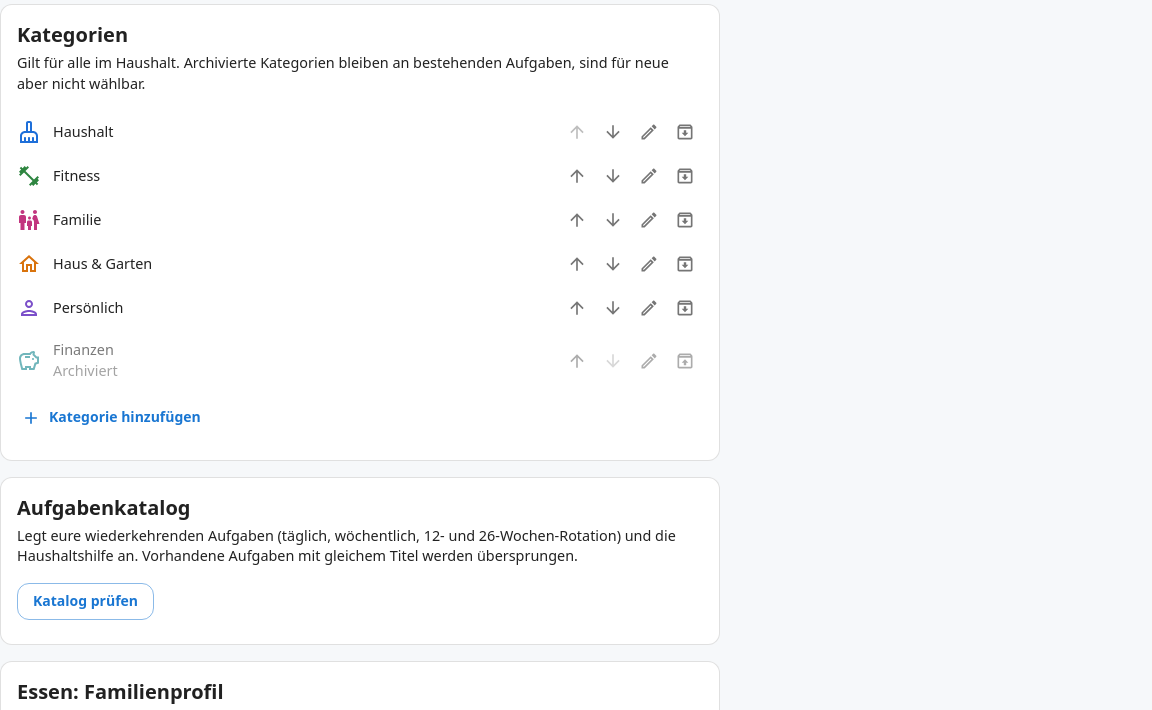
Test: categories settings › shows archived categories with a restore action and reports errors
(page scrolled)
expect the text "Archiviert" is shown: met, box [53,361,118,380]
Step 1. Click the button named "Finanzen wiederherstellen" → x=685, y=361, box [667,343,703,379]
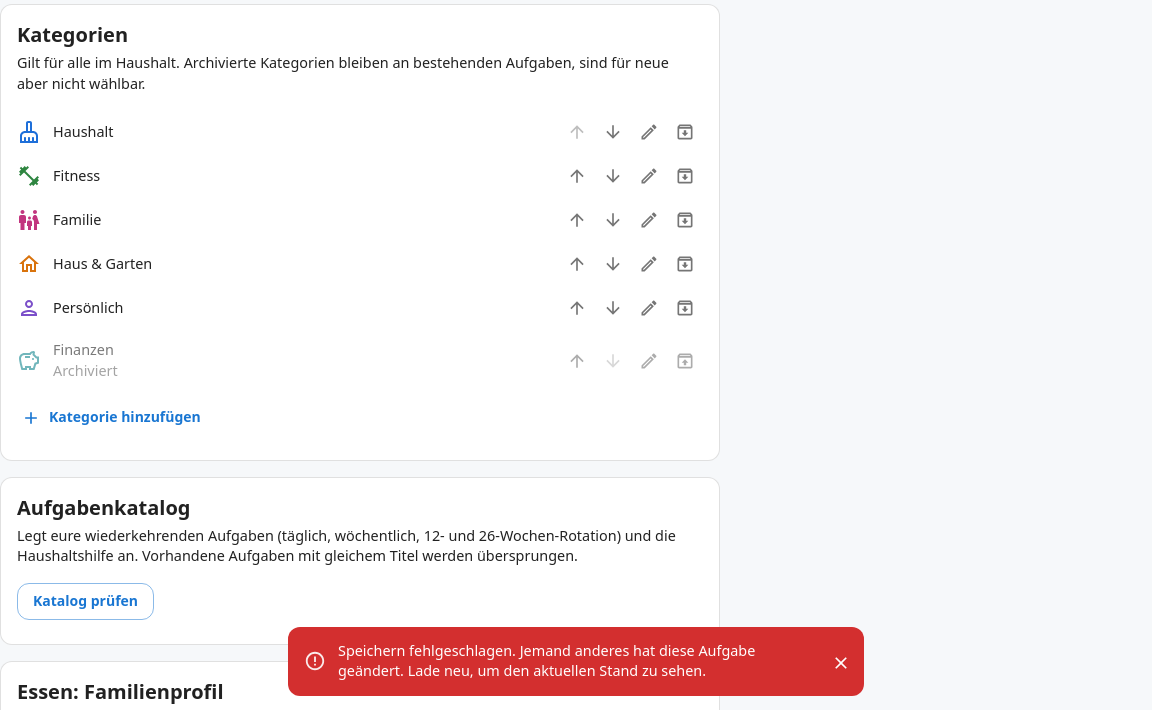
expect the text "Speichern fehlgeschlagen." is shown: met, box [338,641,755,680]
